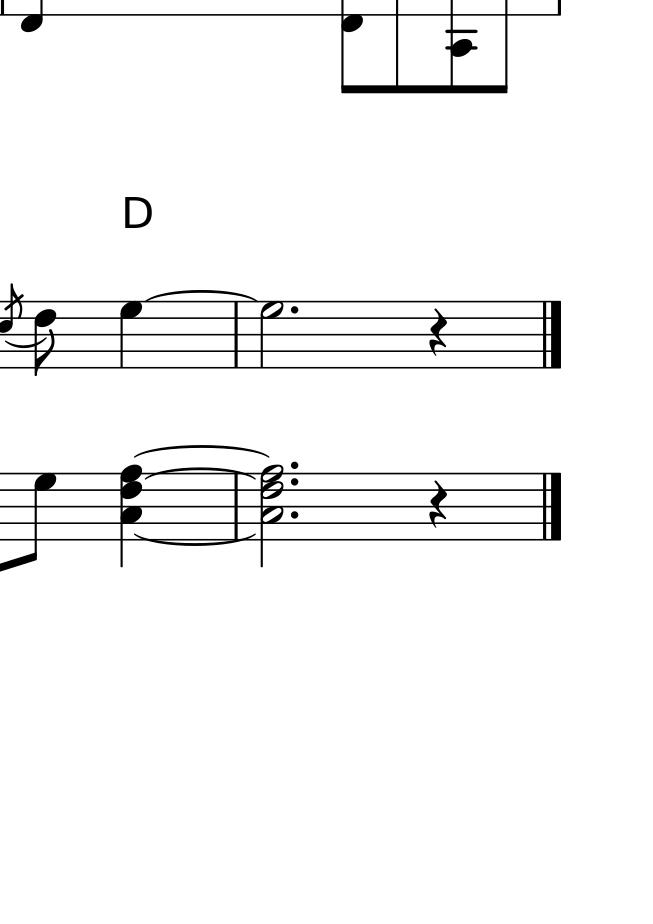2_7: (259, 299, 287, 374)
4_7: (117, 299, 144, 371)
8_6: (31, 300, 59, 378)
8_7: (20, 470, 57, 569)
Acciaccature: (1, 283, 26, 370)
Final_barline: (539, 473, 565, 540), (539, 300, 564, 366)
Rests4: (425, 477, 449, 533), (428, 303, 449, 356)
Single_barline: (227, 302, 246, 366)
Slur: (134, 443, 266, 459), (134, 533, 256, 547), (143, 467, 257, 479), (147, 289, 255, 300)
dot: (286, 301, 302, 318), (285, 474, 304, 488), (286, 459, 303, 473), (287, 507, 302, 521)
